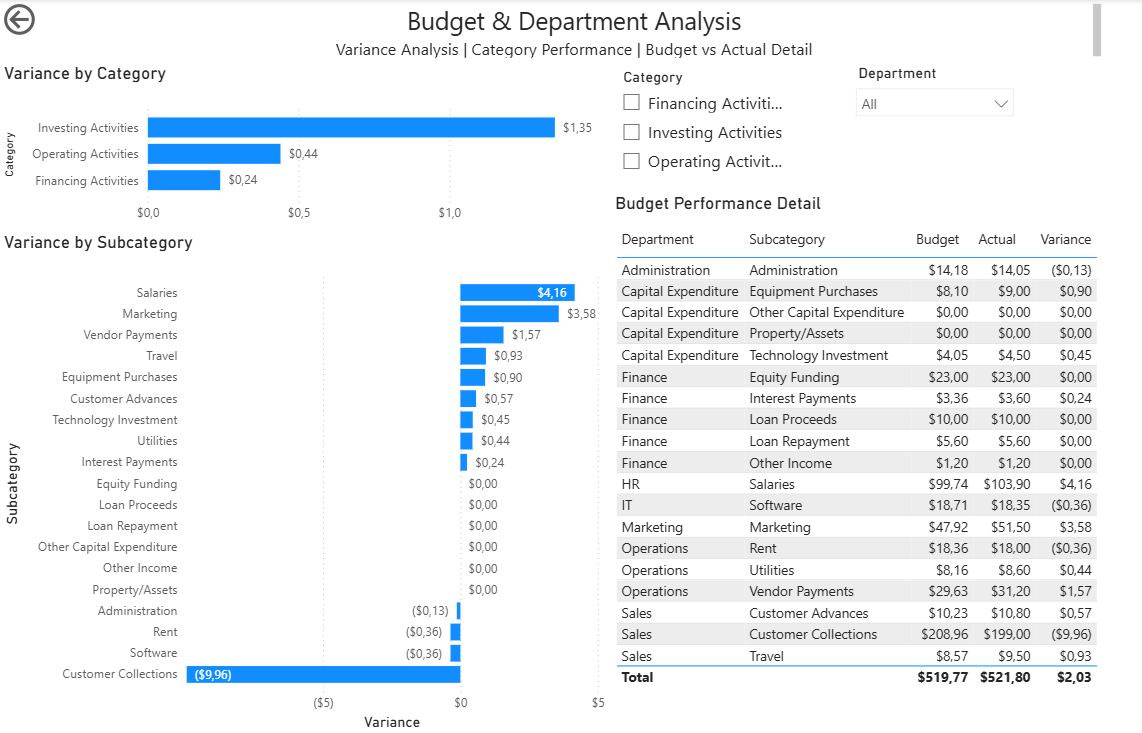

The page's visual inventory and layout, read from the dashboard file:
{"tool":"powerbi","page":{"name":"Budget & Department Analysis","canvas":[1280,720],"ordinal":1},"visuals":[{"type":"clusteredBarChart","title":"Variance by Category","fields":{"Category":["cash_flow_transactions.Category"],"Y":["Sum(cash_flow_transactions.Variance Amount)"]},"box":[0,62.4,598,165.1],"z":0},{"type":"clusteredBarChart","fields":{"Category":["cash_flow_transactions.Subcategory"],"Y":["Sum(cash_flow_transactions.Variance Amount)"]},"box":[0,227.4,598,492.8],"z":1},{"type":"tableEx","title":"Budget Performance Detail","fields":{"Values":["cash_flow_transactions.Department","cash_flow_transactions.Subcategory","Sum(cash_flow_transactions.Budget Amount)","Sum(cash_flow_transactions.Actual Amount)","Sum(cash_flow_transactions.Variance Amount)"]},"box":[598,189.5,485.5,492.8],"z":2},{"type":"actionButton","box":[0,0,100,40],"z":3},{"type":"slicer","fields":{"Values":["cash_flow_transactions.Department"]},"box":[827.9,58.7,174.9,63.6],"z":4},{"type":"slicer","fields":{"Values":["cash_flow_transactions.Category"]},"box":[598,62.4,174.9,118.6],"z":5},{"type":"textbox","box":[50.1,0,1033.3,62.4],"z":6}]}

Visuals, with their boxes on the page's 1280x720 design canvas (x1, y1, x2, y2). These are canvas units, not pixel positions in the 1142x733 screenshot, which may show the page scaled, cropped or inside an application window:
"Variance by Category" clusteredBarChart: select_region(0, 62, 598, 228)
clusteredBarChart - cash_flow_transactions.Subcategory x Sum(cash_flow_transactions.Variance Amount): select_region(0, 227, 598, 720)
"Budget Performance Detail" tableEx: select_region(598, 190, 1084, 682)
actionButton: select_region(0, 0, 100, 40)
slicer - cash_flow_transactions.Department: select_region(828, 59, 1003, 122)
slicer - cash_flow_transactions.Category: select_region(598, 62, 773, 181)
textbox: select_region(50, 0, 1083, 62)
